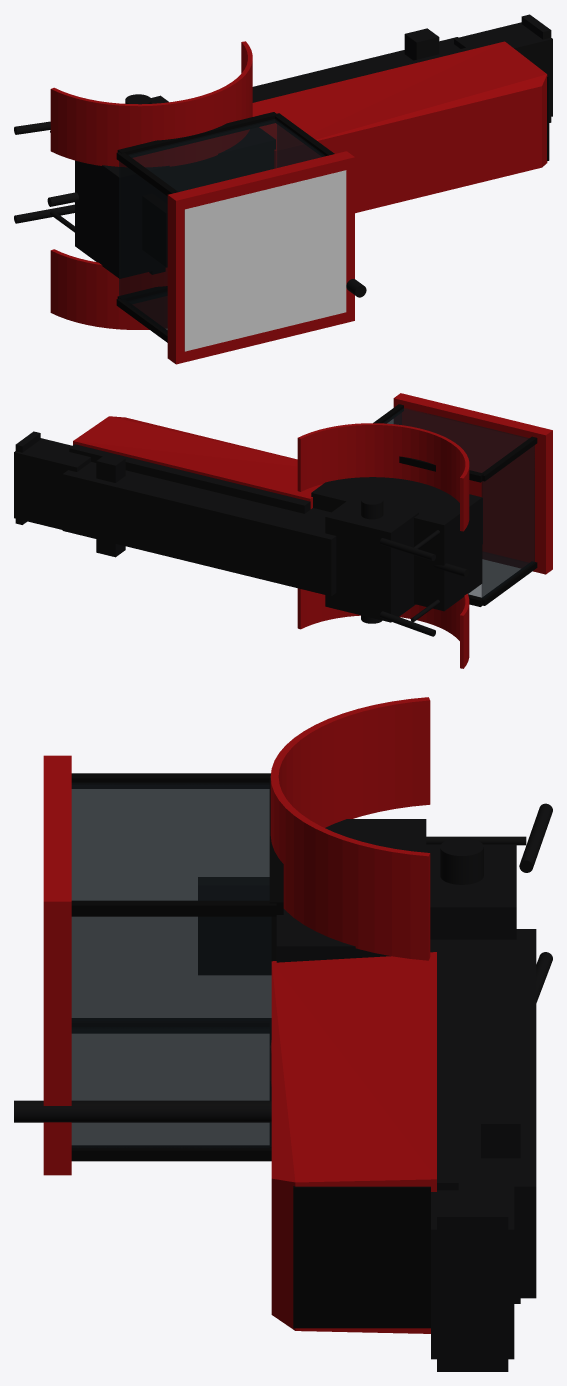
Rendered from body.obj.
The picture shows the model from 3 angles, top to bottom: view 1: azimuth 30°, elevation 25°; view 2: azimuth 150°, elevation 25°; view 3: azimuth 270°, elevation 25°; orthographic projection. The views are drawn at different scales.
Visible parts, largest first — view 1: mf_7615_body; view 2: mf_7615_body; view 3: mf_7615_body.
Boxes of the visible parts, left/top/right/bottom form: mf_7615_body: left=14, top=14, right=552, bottom=364; mf_7615_body: left=14, top=393, right=552, bottom=668; mf_7615_body: left=14, top=697, right=552, bottom=1371.
Size of the model in its own units: 4.91 by 2.08 by 2.71.
